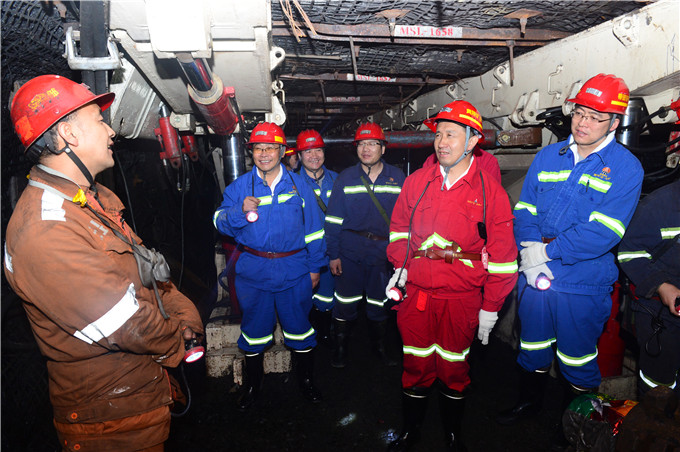helmet: (1, 72, 126, 184), (421, 98, 489, 172), (563, 74, 634, 144), (243, 120, 296, 176), (347, 117, 398, 170), (287, 119, 334, 175)
